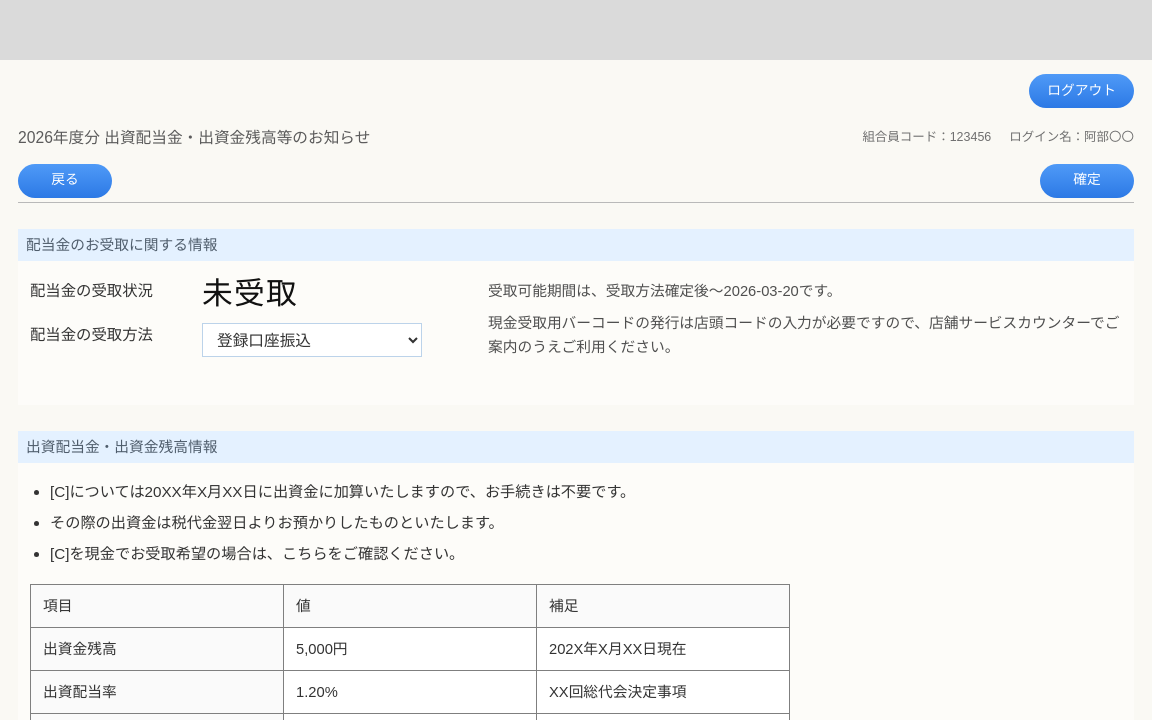
it: DividendNoticePage › updates the receipt method and shows a success message
The image size is (1152, 720).
Select "現金受取" in the dropdown labelled "配当金の受取方法" at (312, 340), box x1=202 y1=323 x2=422 y2=357
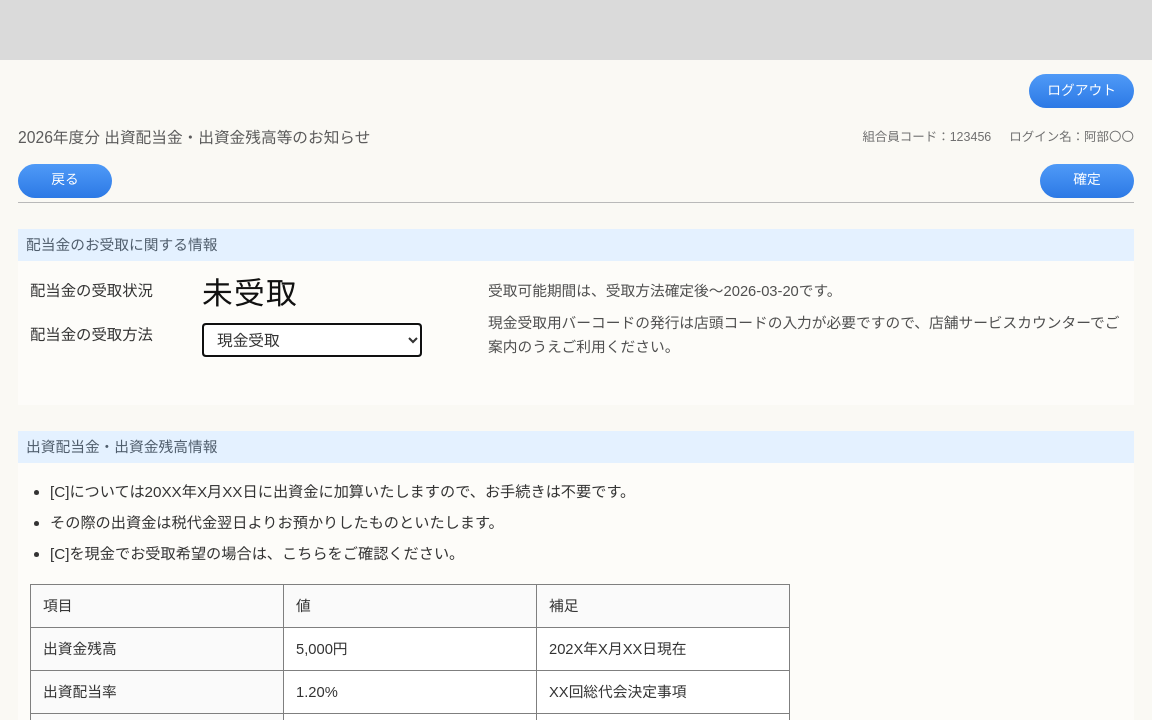
Click the button "確定".
click(1087, 180)  # box x1=1040 y1=164 x2=1134 y2=198
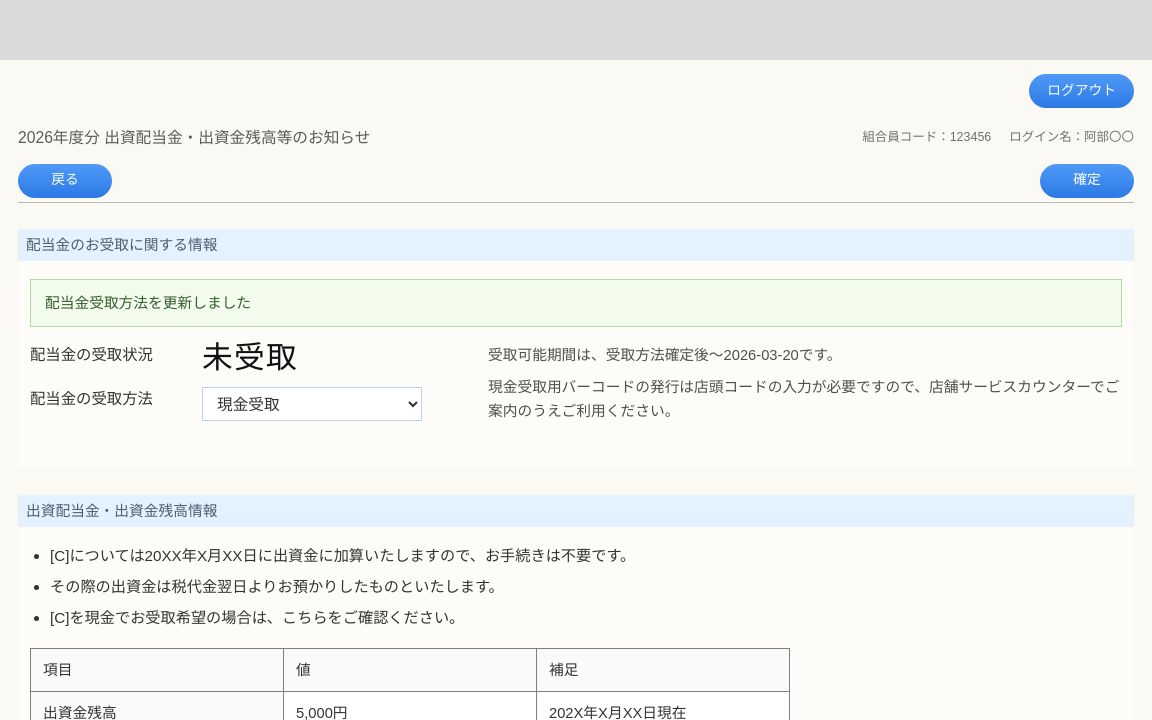
Expected: the text "配当金受取方法を更新しました" is shown, x1=30 y1=279 x2=1122 y2=327
